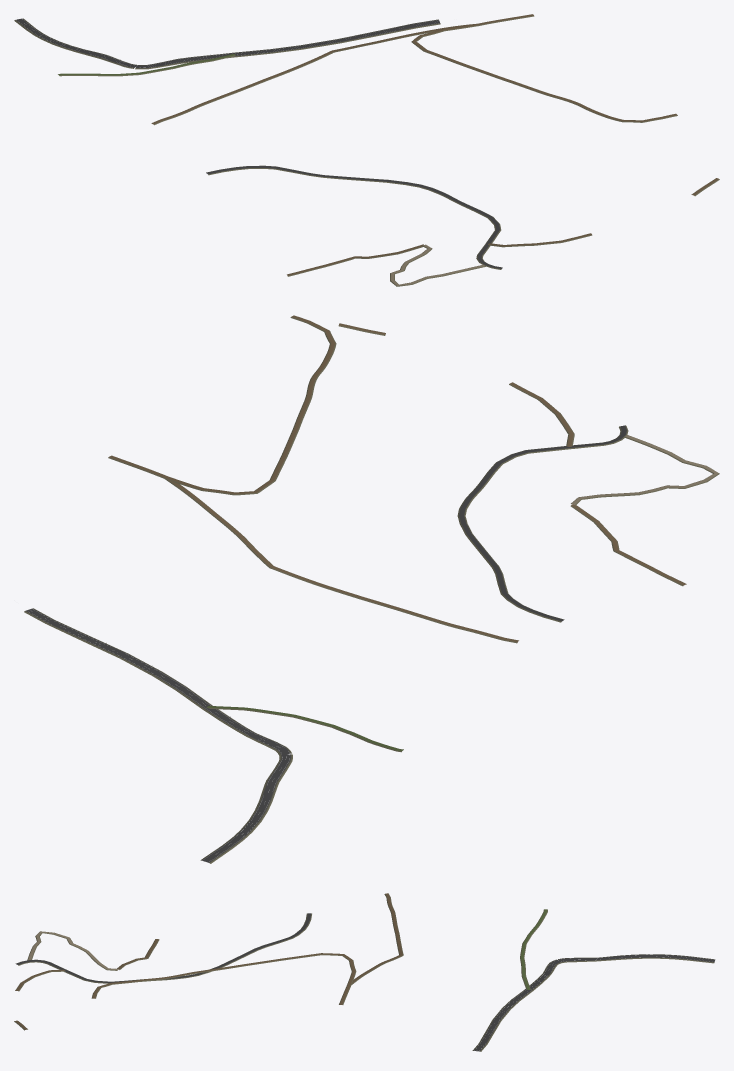
3 views of the same model, one above another, from view 1: azimuth 30°, elevation 25°; view 2: azimuth 150°, elevation 25°; view 3: azimuth 270°, elevation 25° (orthographic). The views are drawn at different scales.
Visible parts, largest first — view 1: roads; view 2: roads; view 3: roads.
Part boxes in pixels (left/top/right/bottom): roads: left=14, top=14, right=719, bottom=286; roads: left=24, top=315, right=719, bottom=863; roads: left=14, top=893, right=715, bottom=1051.
Size of the model in its own units: 401 by 111 by 807.
